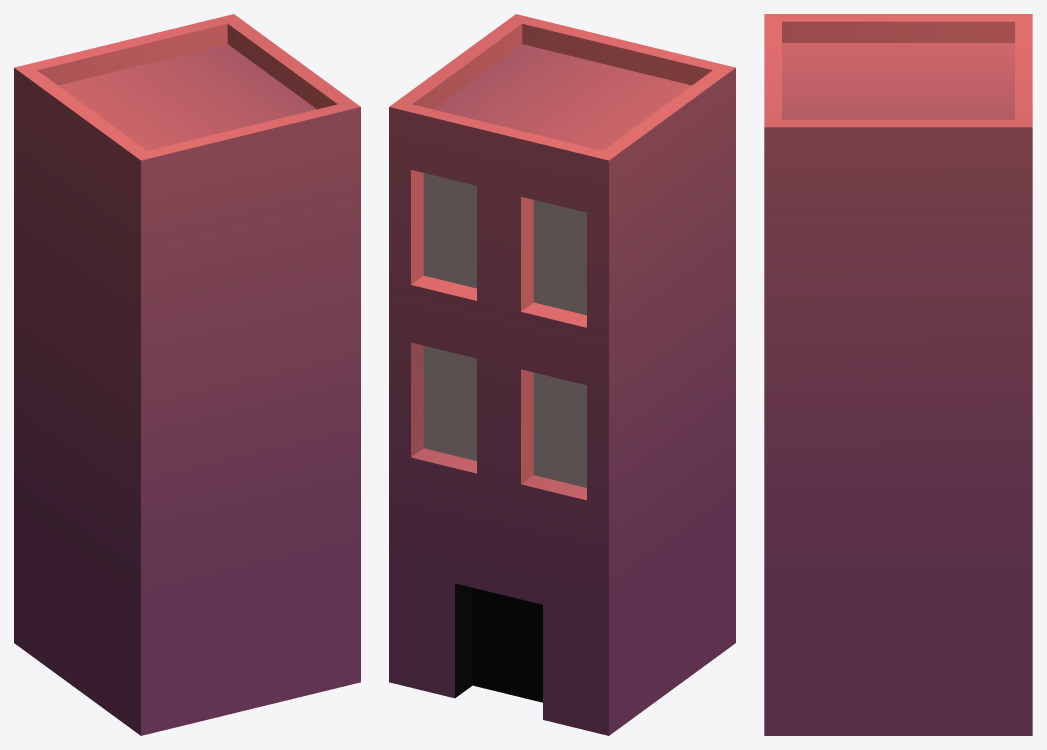
Rendered from Building2.fbx.
The picture shows the model from 3 angles, left to right: view 1: azimuth 30°, elevation 25°; view 2: azimuth 150°, elevation 25°; view 3: azimuth 270°, elevation 25°; orthographic projection. The views are drawn at different scales.
Parts seen in each view (by area): view 1: Cube; view 2: Cube; view 3: Cube.
Boxes of the visible parts, box(x1,y1,x2,y2) form: Cube: box(14, 14, 360, 735); Cube: box(389, 14, 735, 735); Cube: box(764, 14, 1032, 735).
Bounding box in the file's own units: 2000 × 5000 × 2000.
